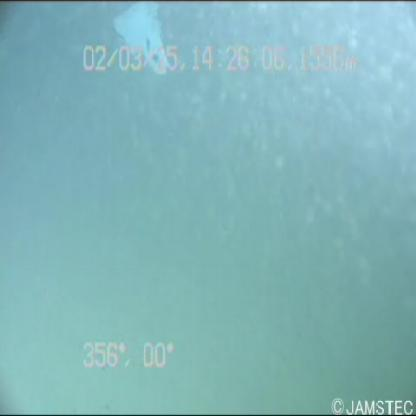Rác: (102, 5, 179, 76)
